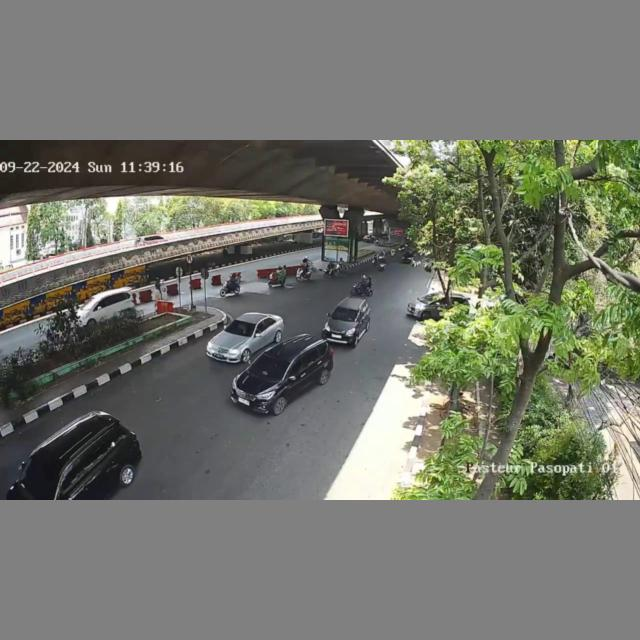windshield: (250, 354, 291, 377), (223, 319, 256, 336), (331, 306, 360, 323)
